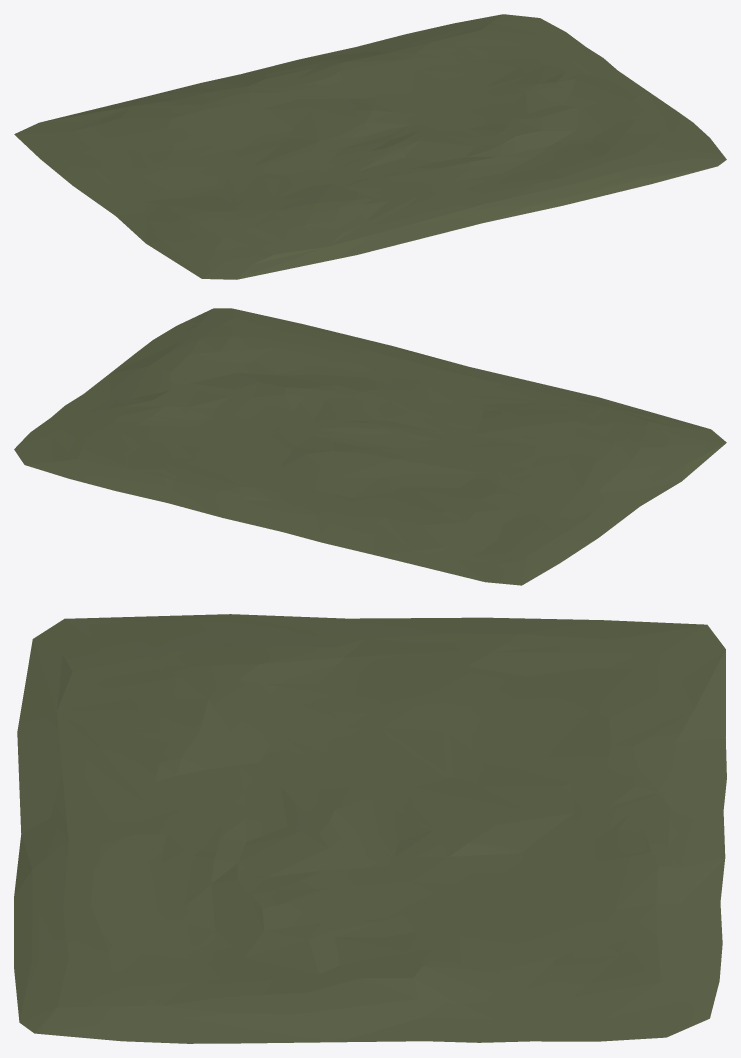
File: Floor.fbx
3 renders of one model, top to bottom at view 1: azimuth 30°, elevation 25°; view 2: azimuth 150°, elevation 25°; view 3: azimuth 270°, elevation 25°, orthographic. The views are drawn at different scales.
Parts seen in each view (by area): view 1: SM_Env_Grass_Square_01__19_; view 2: SM_Env_Grass_Square_01__19_; view 3: SM_Env_Grass_Square_01__19_.
Part boxes in pixels (<box>): SM_Env_Grass_Square_01__19_: <box>14,14,726,279</box>; SM_Env_Grass_Square_01__19_: <box>14,308,726,585</box>; SM_Env_Grass_Square_01__19_: <box>14,614,726,1043</box>.
Size of the model in its own units: 3636 by 52.2 by 2549.
